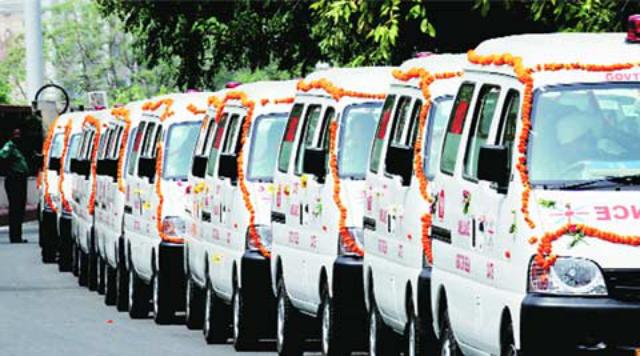ambulance: (427, 17, 639, 355), (269, 67, 393, 355), (363, 53, 461, 353), (196, 81, 292, 349), (124, 93, 201, 321), (69, 109, 108, 289), (49, 112, 83, 271)
